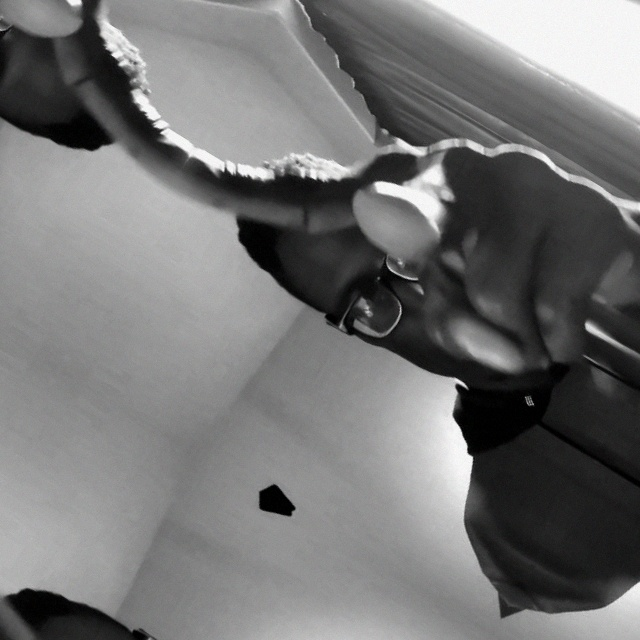Scissors: (0, 0, 287, 192)
